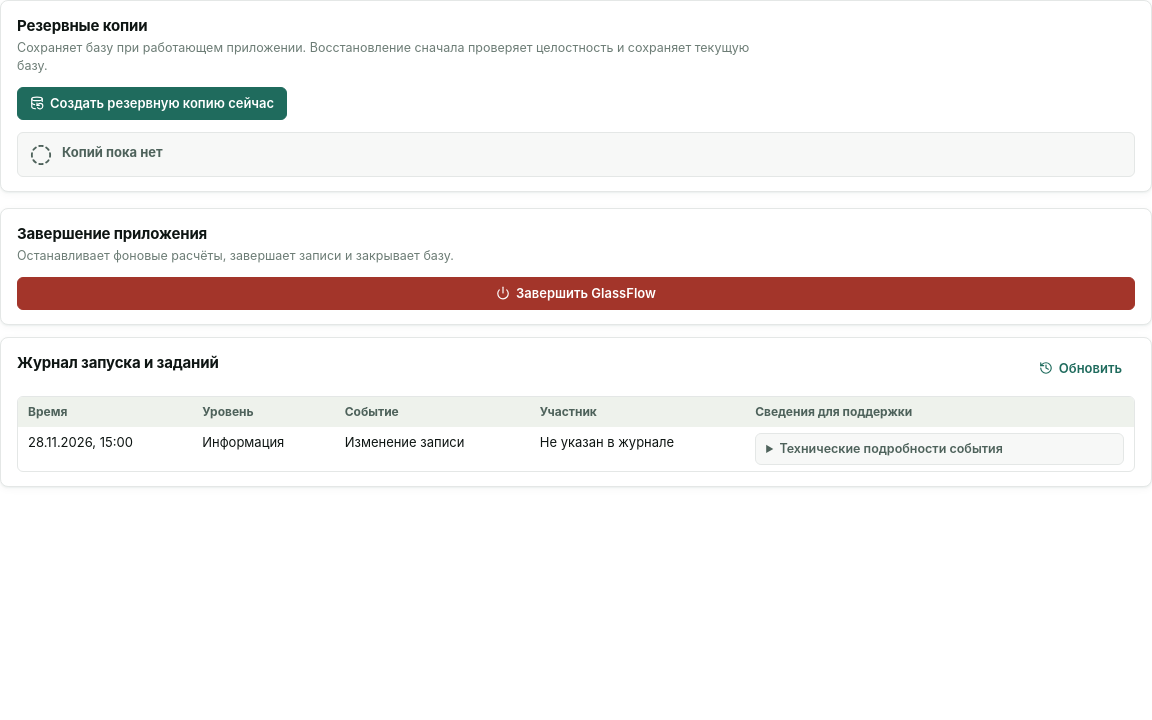
keeps unknown audit events honest and their exact codes and structured details out of the main view
Expected: the text "Изменение записи" is shown, [335,427,530,471]
Expected: the text "Не указан в журнале" is shown, [530,427,745,471]
Click the heading "Технические подробности события" at coordinates (891, 448), box [779,441,1003,456]
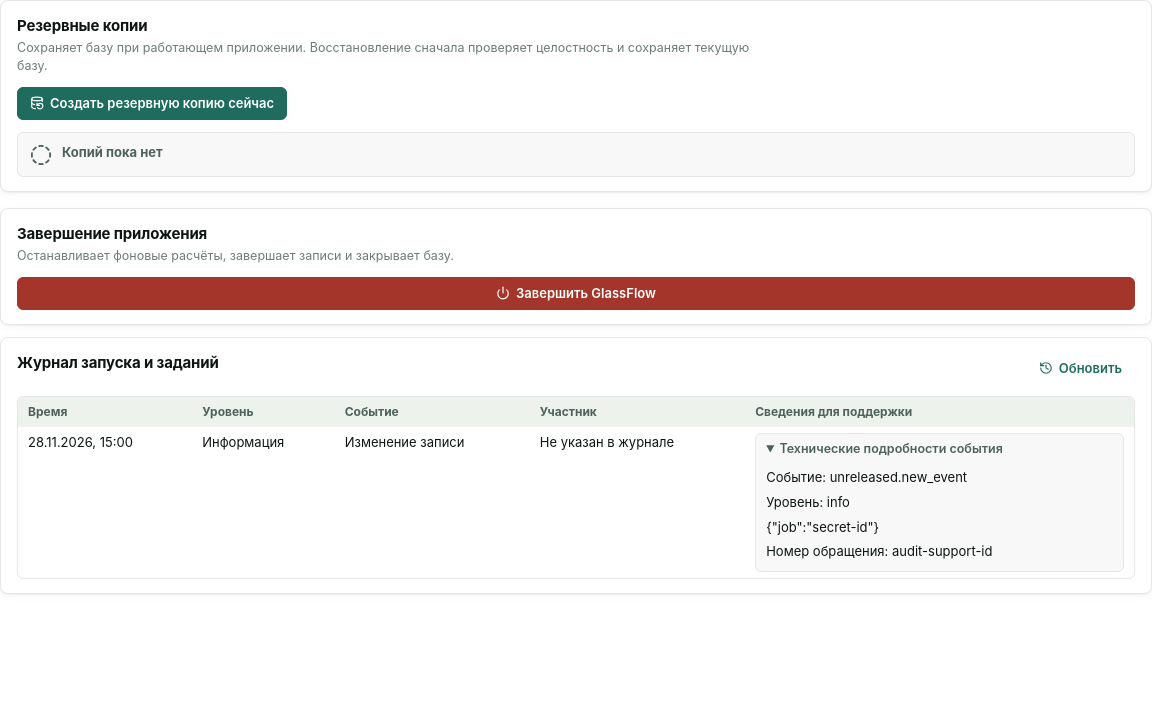
Expected: the text "Событие: unreleased.new_event" is shown, [766,469,967,485]
Expected: the text "{\"job\":\"secret-id\"}" is shown, [766,519,879,535]
Expected: the text "Номер обращения: audit-support-id" is shown, [766,544,992,560]
